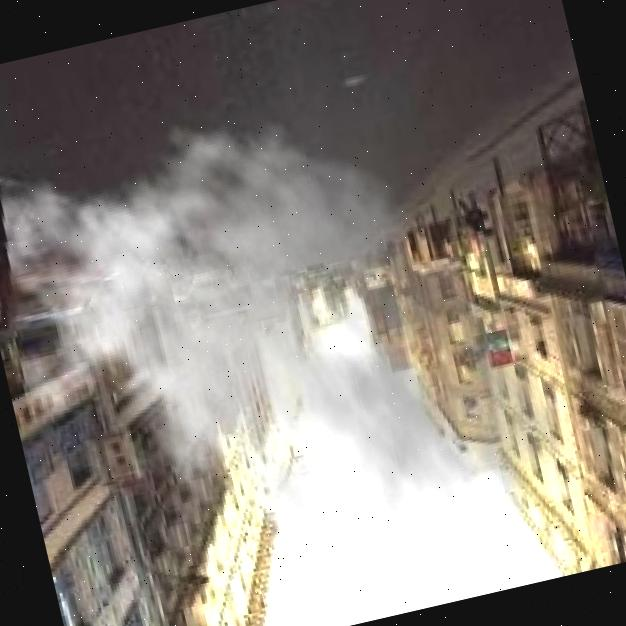smoke: (0, 36, 598, 626)
